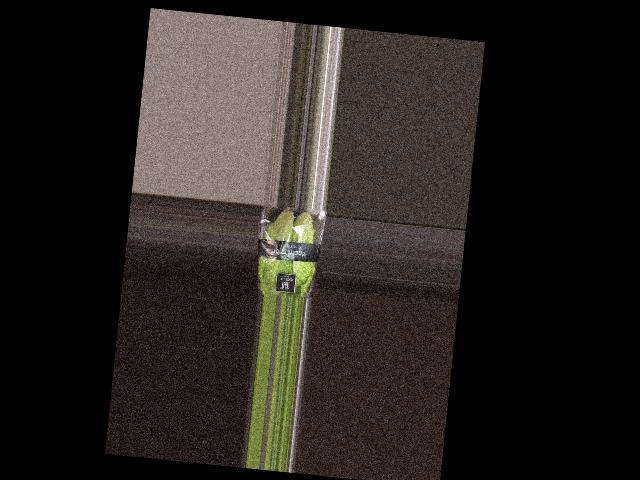lettuce: (257, 204, 326, 298)
